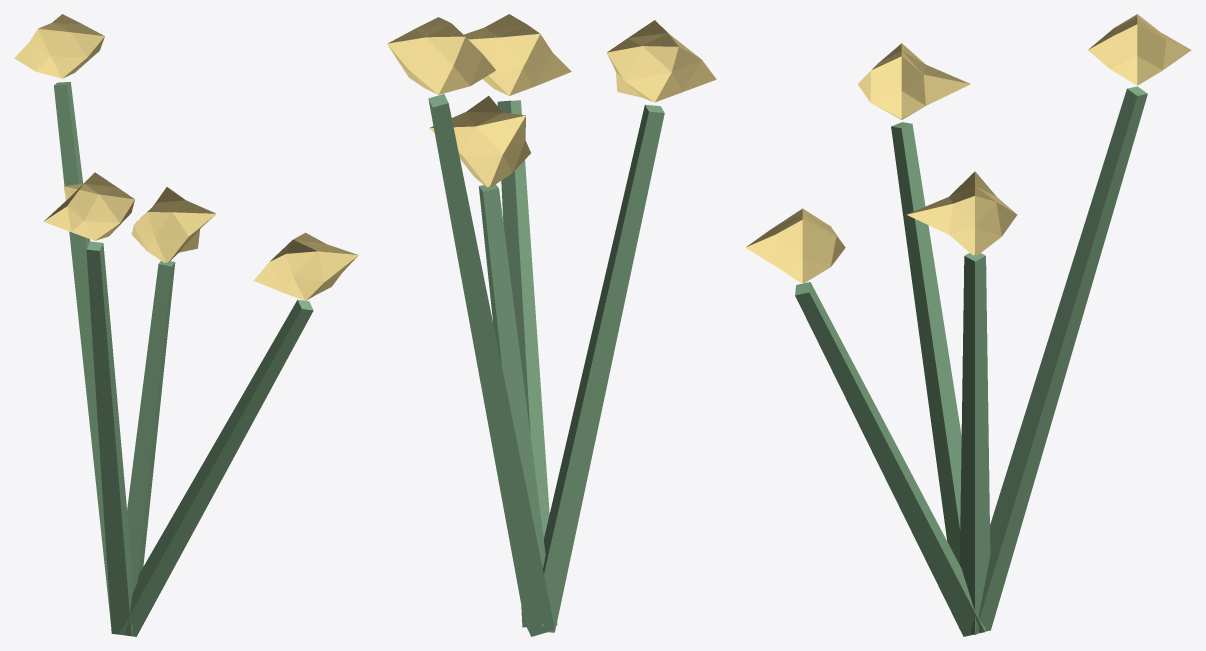
The model's file is flower_v38.glb.
The picture shows the model from 3 angles, left to right: view 1: azimuth 30°, elevation 25°; view 2: azimuth 150°, elevation 25°; view 3: azimuth 270°, elevation 25°; orthographic projection. The views are drawn at different scales.
Visible parts, largest first — view 1: lod0; view 2: lod0; view 3: lod0.
Boxes of the visible parts, x1,y1,x2,y2 form: lod0: [14, 14, 358, 636]; lod0: [387, 14, 716, 636]; lod0: [745, 14, 1191, 636].
Size of what is drawn, in the model's own units: 0.3827 by 0.7621 by 0.4932.
